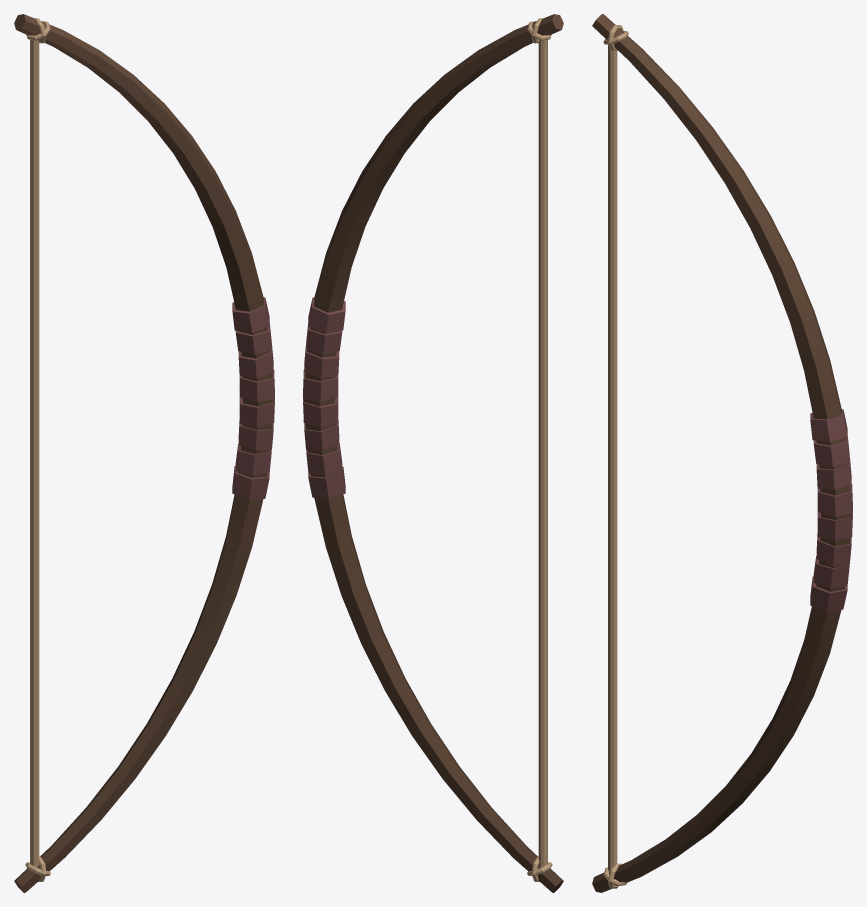
File: Bow.fbx
3 views of the same model, side by side, from view 1: azimuth 30°, elevation 25°; view 2: azimuth 150°, elevation 25°; view 3: azimuth 330°, elevation 25° (orthographic).
Parts seen in each view (by area): view 1: Bow_01; view 2: Bow_01; view 3: Bow_01.
Part boxes in pixels (x1,y1,x2,y2): Bow_01: (14,14,274,892); Bow_01: (303,14,563,892); Bow_01: (592,14,852,892).
Bounding box in the file's own units: 31.09 × 101 × 3.68.
